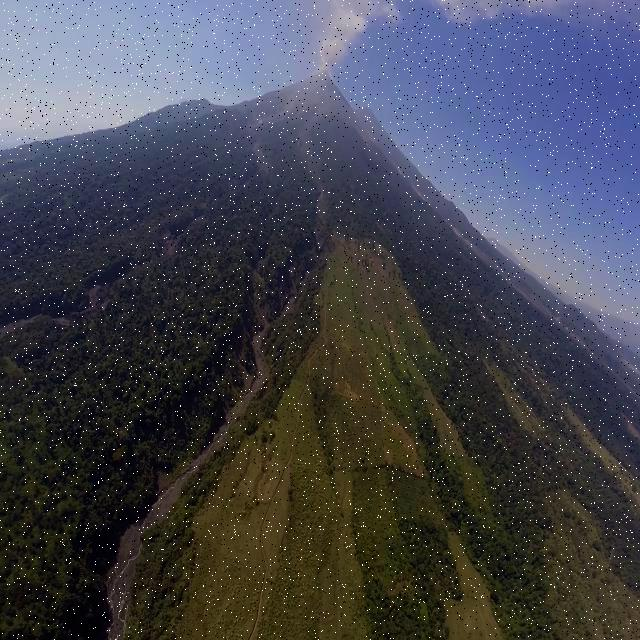Plume: (313, 5, 372, 67)
Summit: (307, 66, 330, 86)
